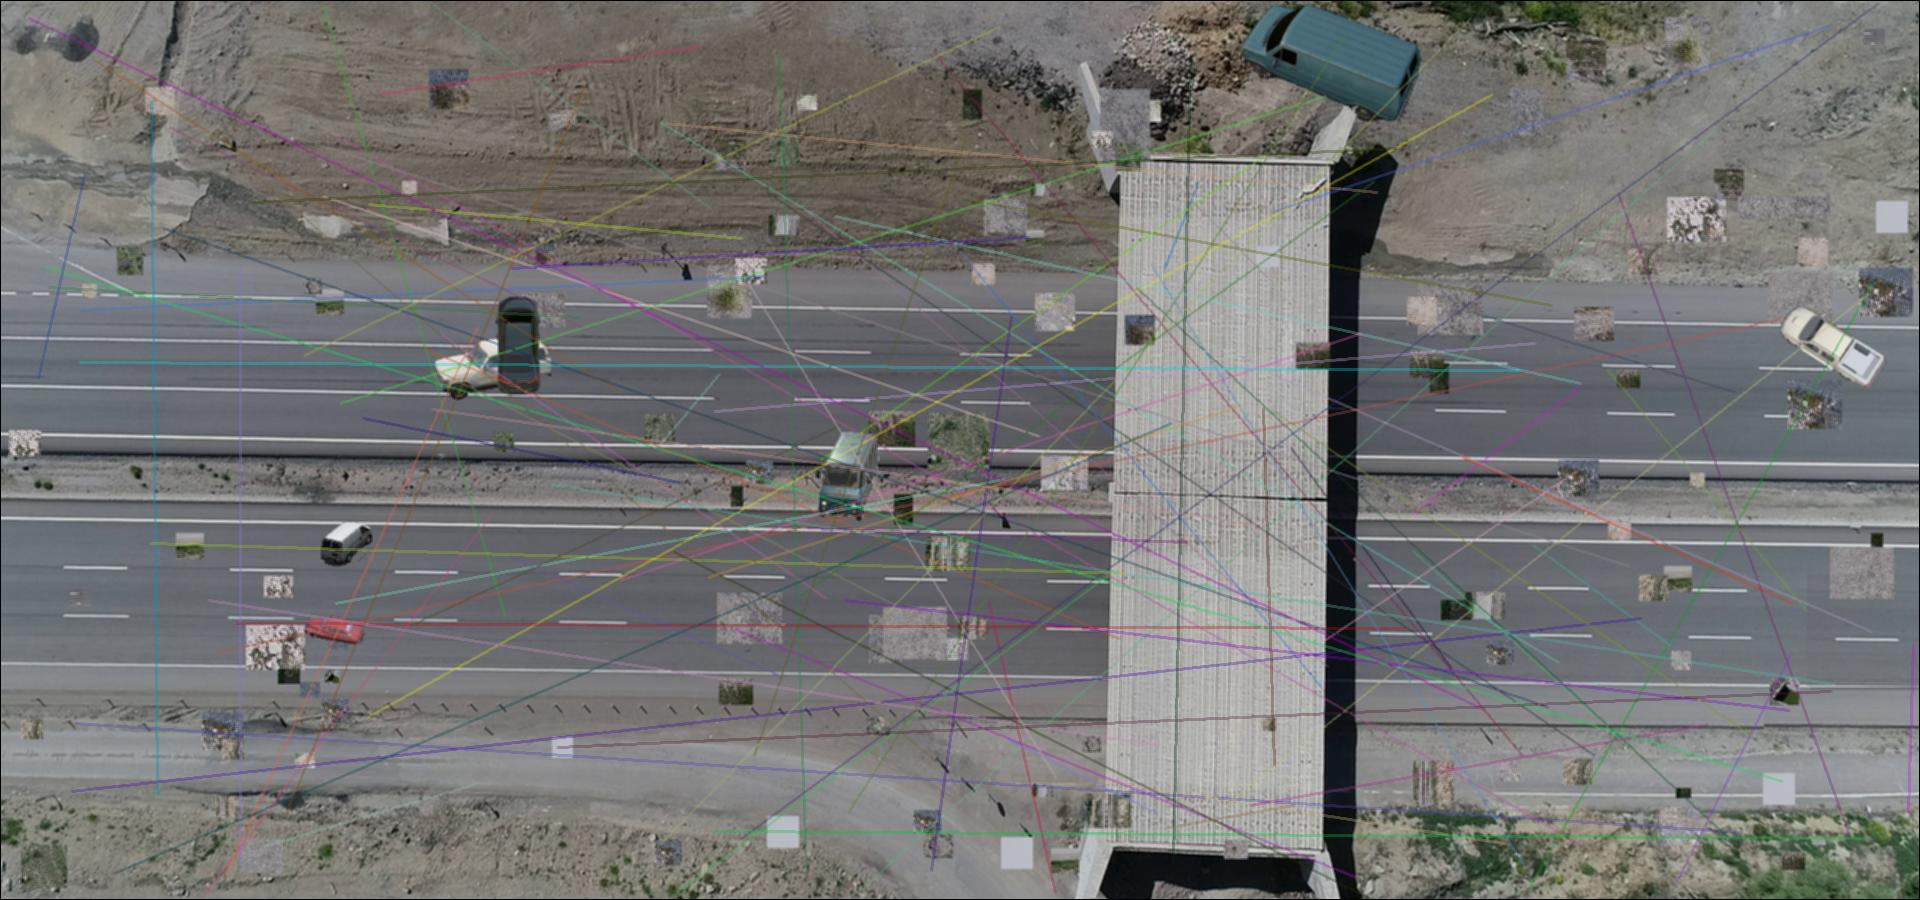arac: (1242, 2, 1423, 122), (1778, 301, 1891, 388), (432, 336, 551, 400), (814, 430, 879, 520), (492, 298, 544, 397), (321, 520, 373, 566), (304, 616, 365, 645)
